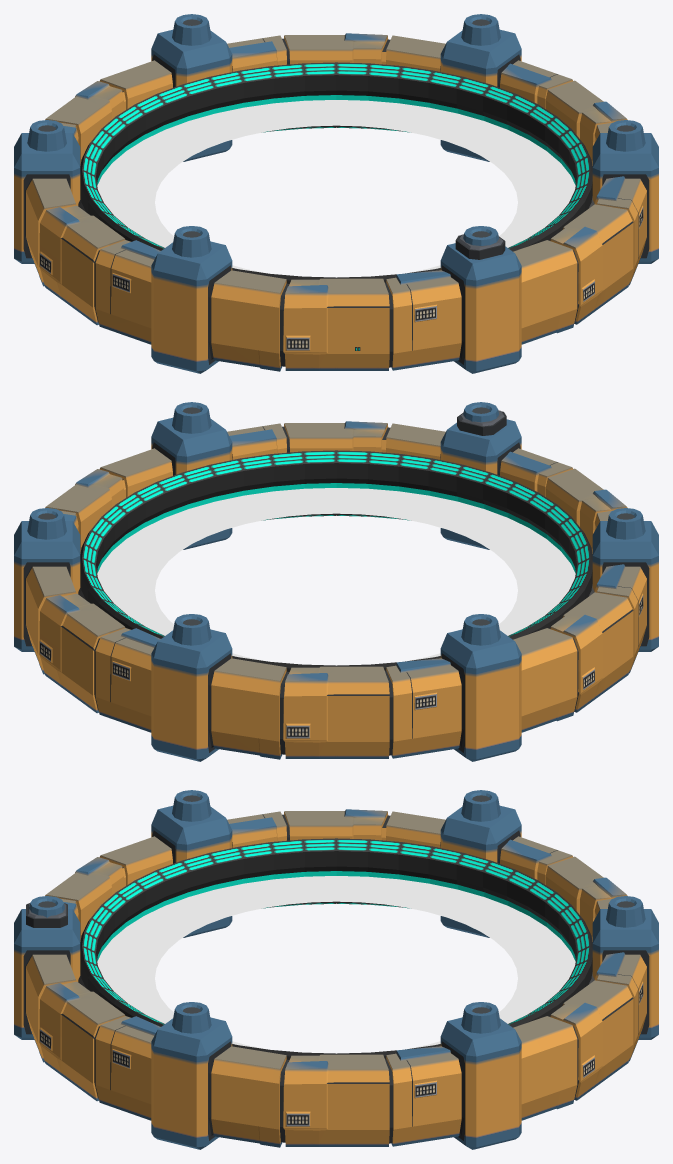
The model's file is Gate_ring.glb.
3 views of the same model, one above another, from view 1: azimuth 30°, elevation 25°; view 2: azimuth 150°, elevation 25°; view 3: azimuth 270°, elevation 25° (orthographic).
Parts seen in each view (by area): view 1: 0, 1; view 2: 0, 1; view 3: 0, 1.
Part boxes in pixels (left/top/right/bottom): 0: left=14, top=14, right=658, bottom=373; 1: left=97, top=100, right=575, bottom=272; 0: left=14, top=402, right=658, bottom=761; 1: left=97, top=488, right=575, bottom=660; 0: left=14, top=790, right=658, bottom=1149; 1: left=97, top=876, right=575, bottom=1048.
Bounding box in the file's own units: 458 × 102 × 470.
Materials: 2 (1 with a texture image).
